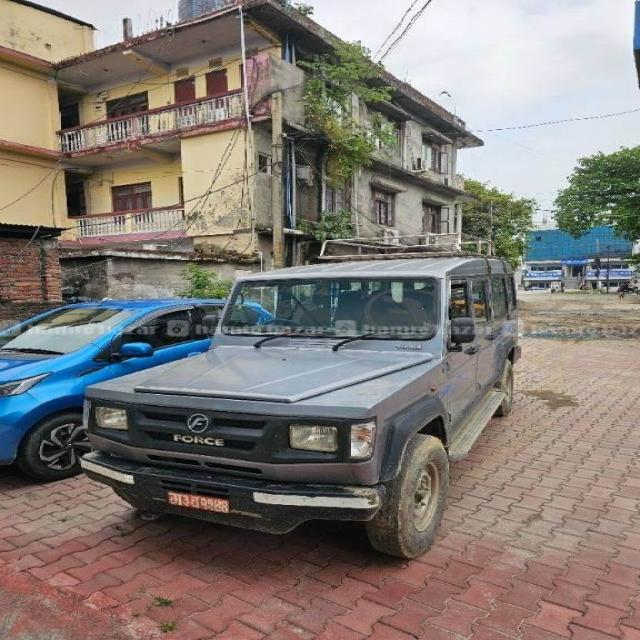License-plate: (162, 492, 227, 515)
